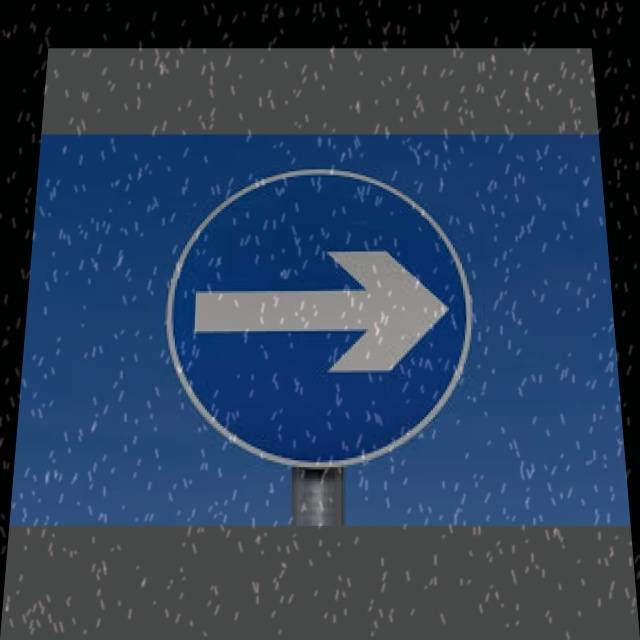Compulsory_Turn_Right: (167, 166, 477, 465)
